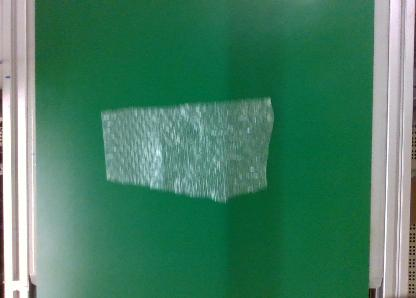Others: (99, 97, 273, 205)
